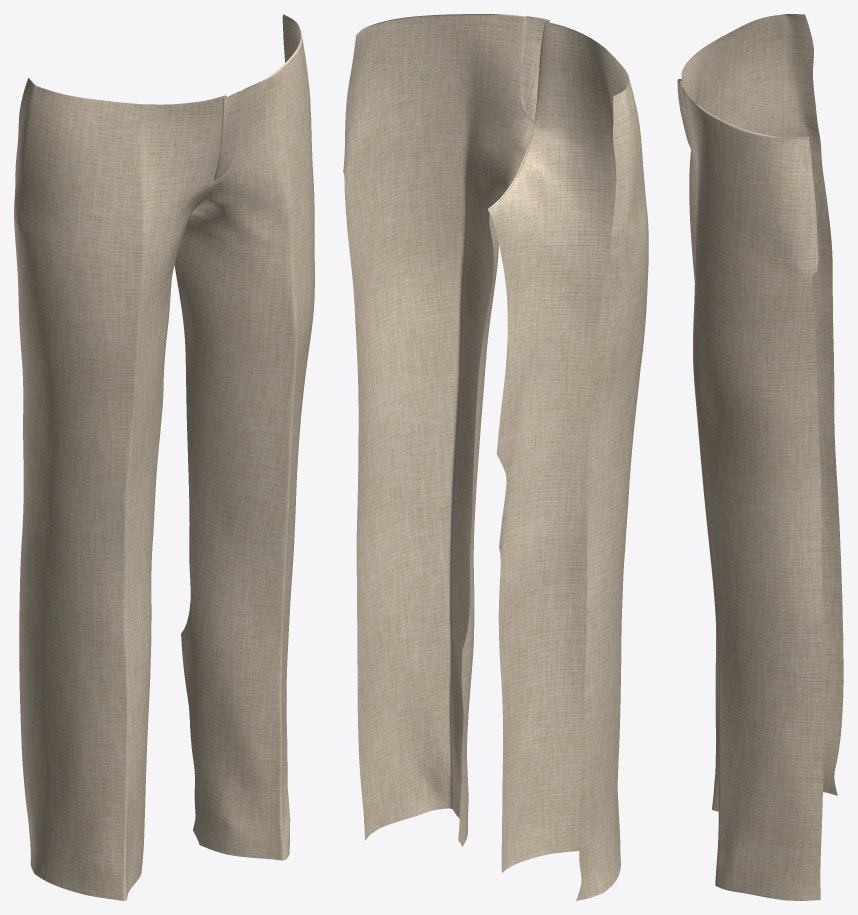
File: pleat_none.glb
3 views of the same model, side by side, from view 1: azimuth 30°, elevation 25°; view 2: azimuth 150°, elevation 25°; view 3: azimuth 270°, elevation 25° (orthographic). The views are drawn at different scales.
Visible parts, largest first — view 1: pleat_none1; view 2: pleat_none1; view 3: pleat_none1.
Boxes of the visible parts, box(x1,y1,x2,y2) form: pleat_none1: box(14, 14, 314, 900); pleat_none1: box(343, 14, 648, 900); pleat_none1: box(677, 14, 843, 900).
Bounding box in the file's own units: 0.0497 × 0.1341 × 0.0262.
1 material, 1 textured.
